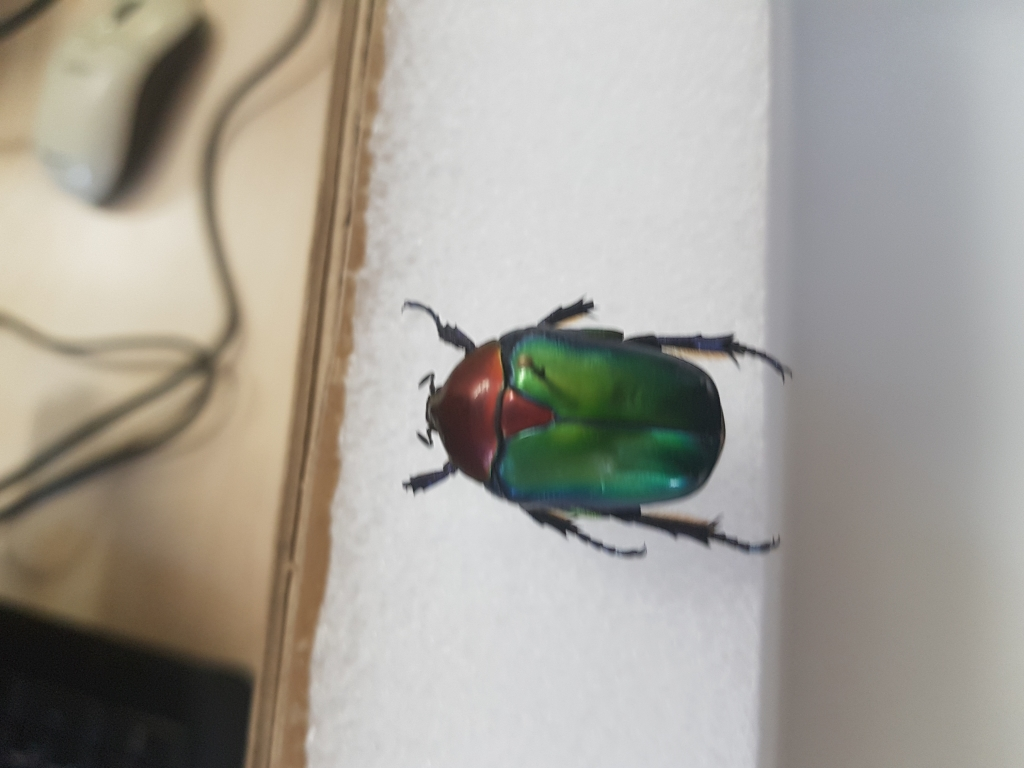Protaetia_speciosa_jousseliniw: (382, 271, 798, 575)
